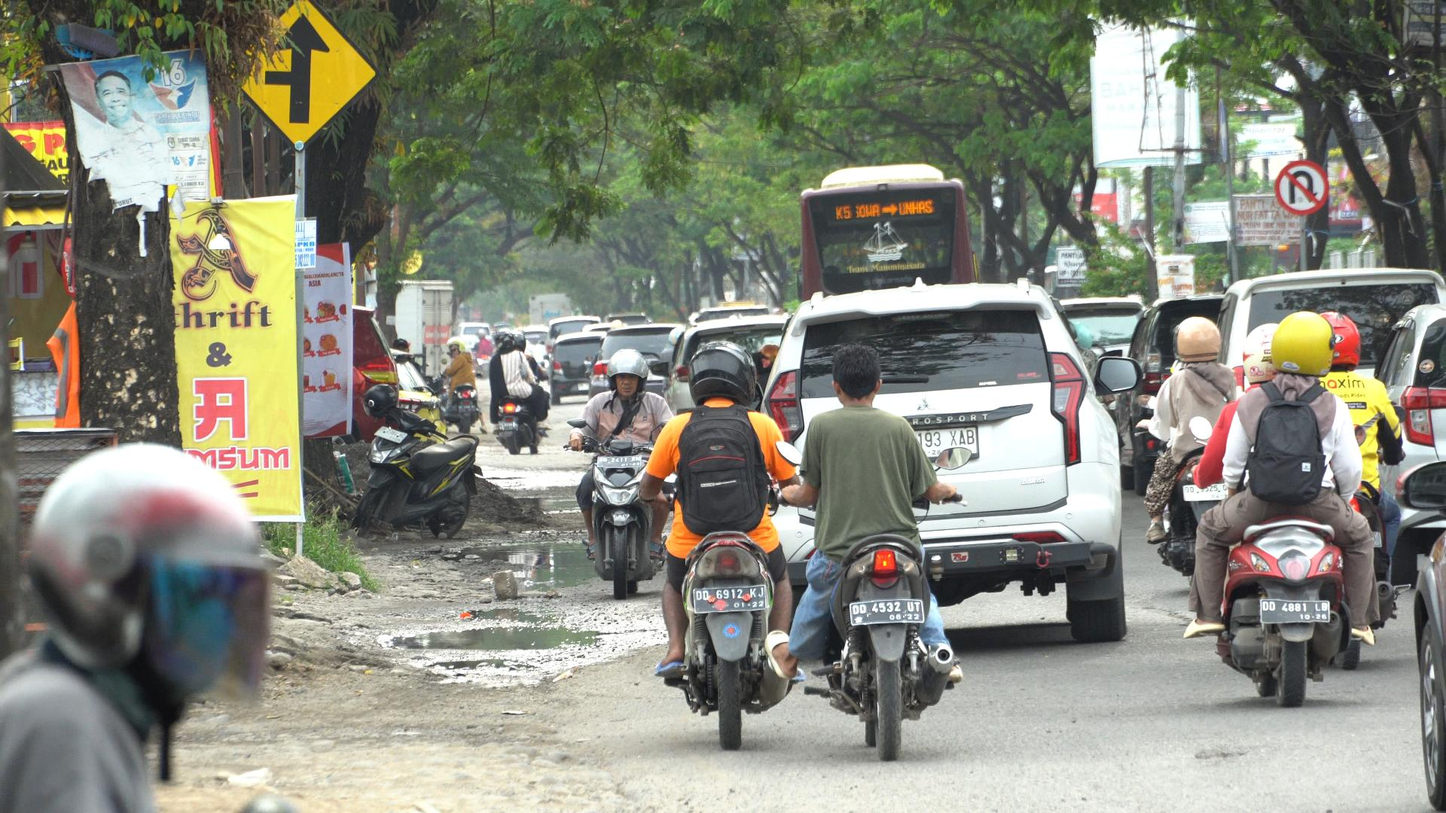number-plate: (597, 454, 642, 469)
